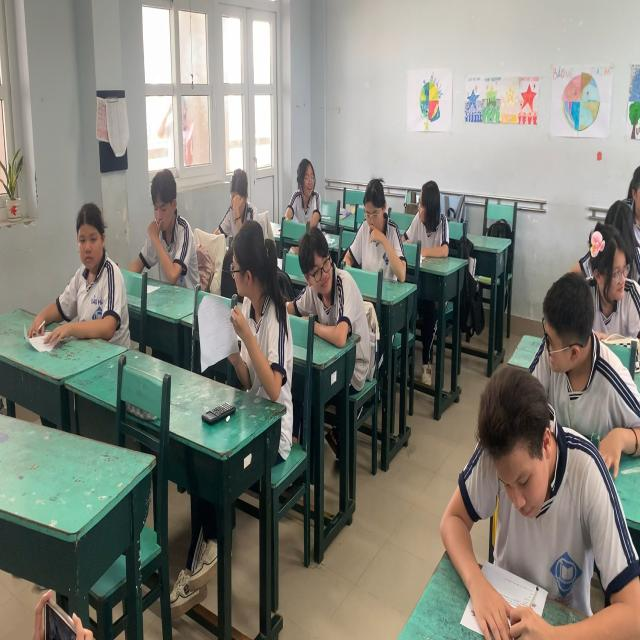cheating: (531, 228, 630, 429), (219, 186, 294, 430), (308, 204, 370, 382), (274, 121, 325, 224), (411, 168, 459, 265)
not_cheating: (449, 344, 632, 640), (41, 176, 138, 348), (550, 184, 640, 340), (123, 134, 191, 282), (580, 124, 640, 248), (352, 155, 403, 283), (208, 147, 253, 248)
